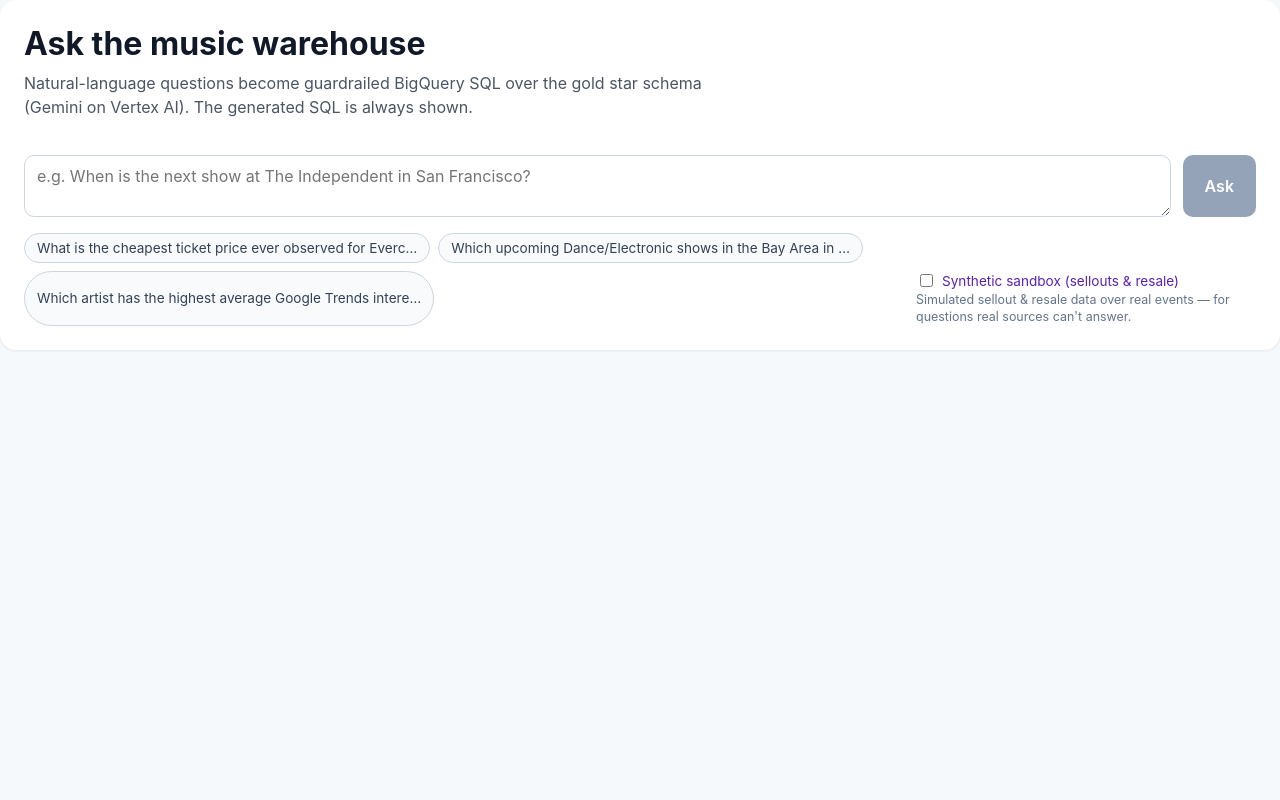
Test case: AskPanel › posts thumbs feedback with the answer context, then locks both buttons
The width and height of the screenshot is (1280, 800).
Step 1. Type "Cheapest Everclear ticket?" into the text box named "Question" → coordinates (597, 186), box [24, 155, 1171, 217]
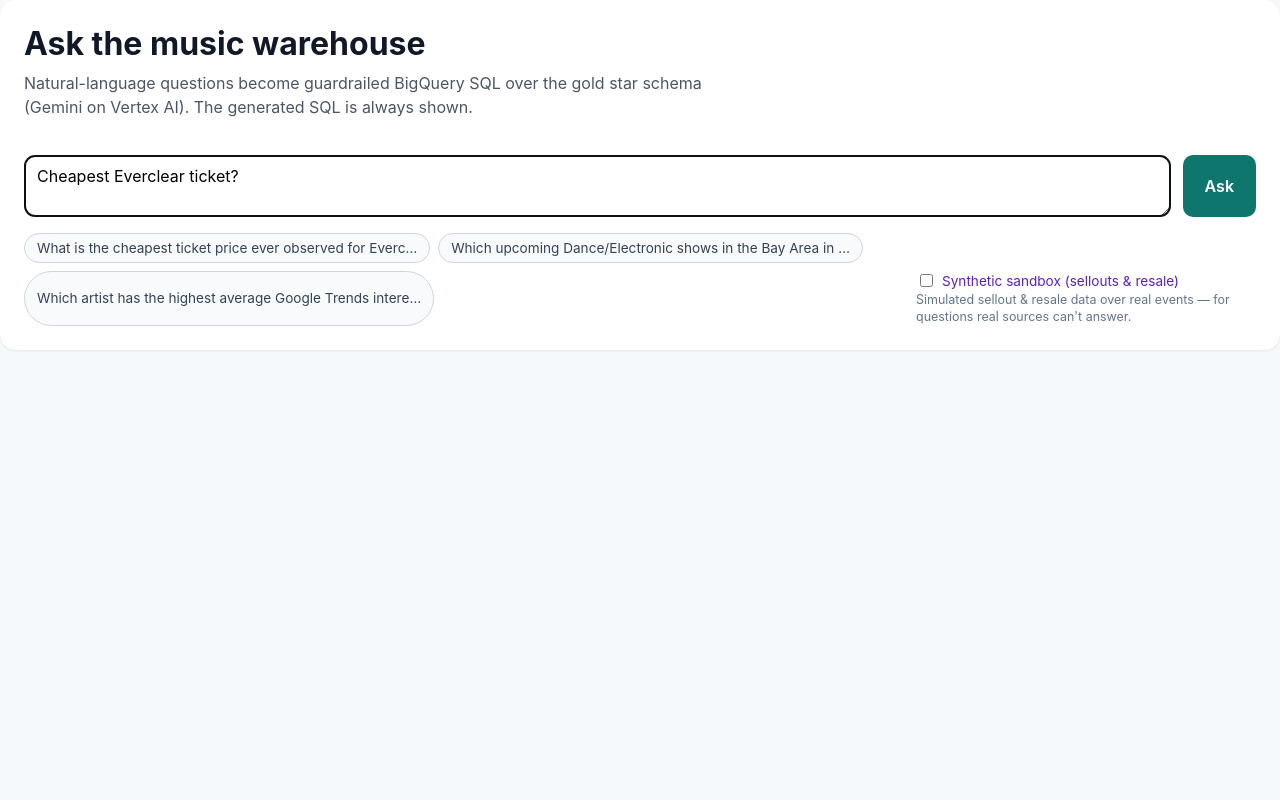
Step 2. Click the button "Ask" → coordinates (1219, 186), box [1183, 155, 1256, 217]
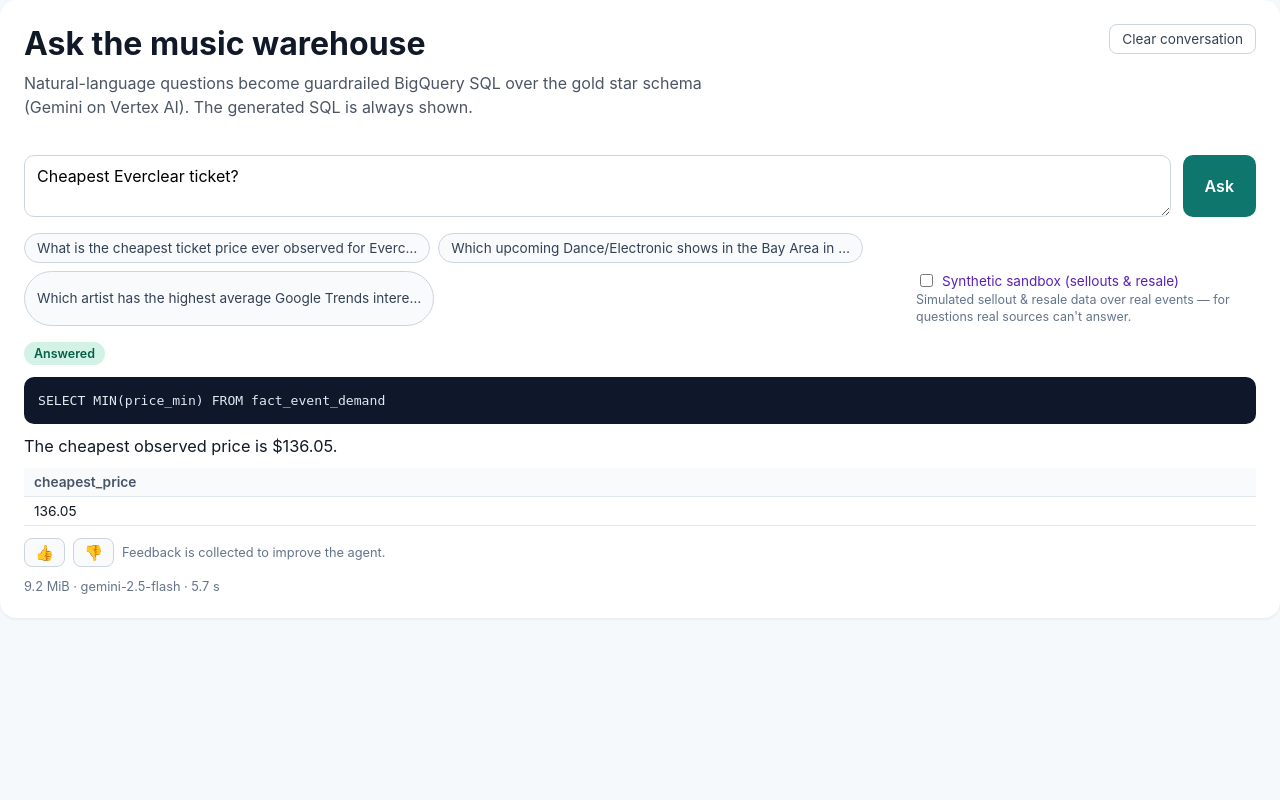
Step 3. Click the button named "Thumbs up" → coordinates (44, 553), box [24, 538, 65, 567]
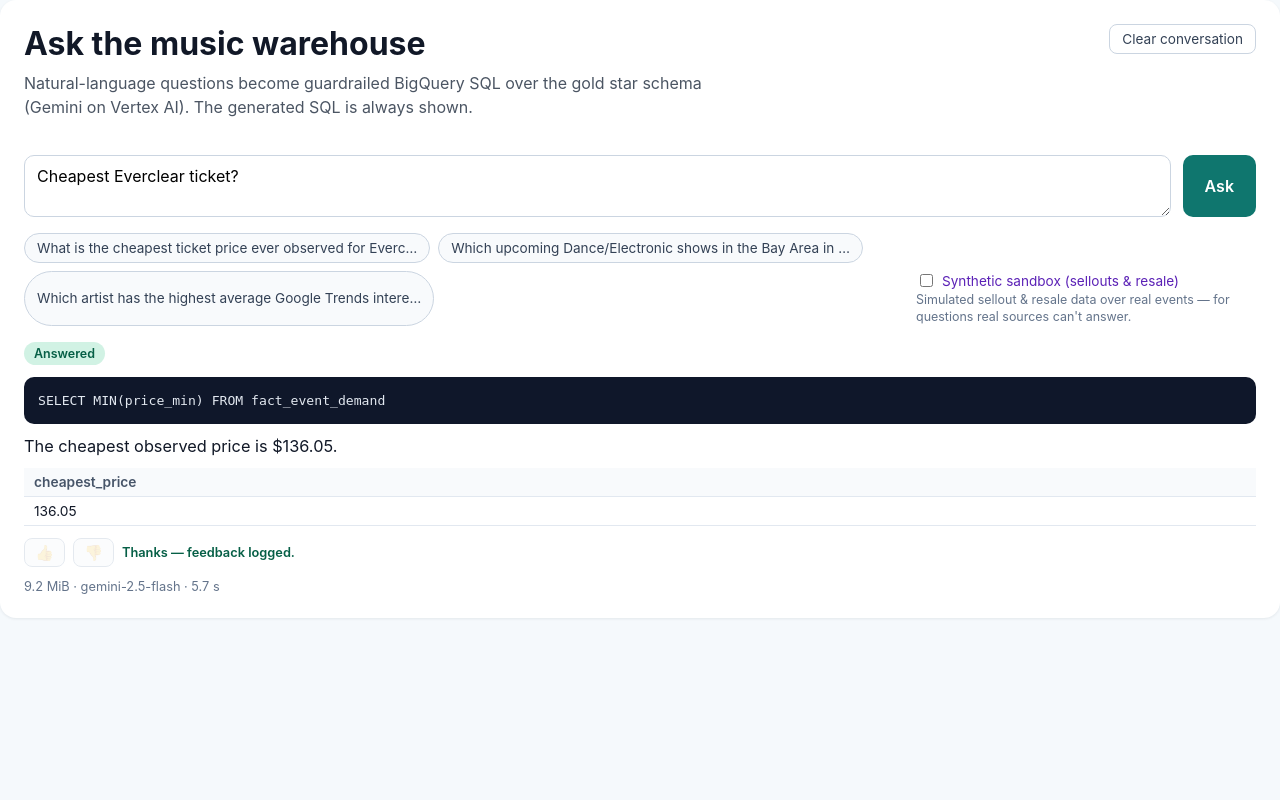
Check: the text "Thanks — feedback logged." is shown, box [122, 545, 295, 560]
Check: the button named "Thumbs up" is disabled, box [24, 538, 65, 567]
Check: the button named "Thumbs down" is disabled, box [73, 538, 114, 567]
